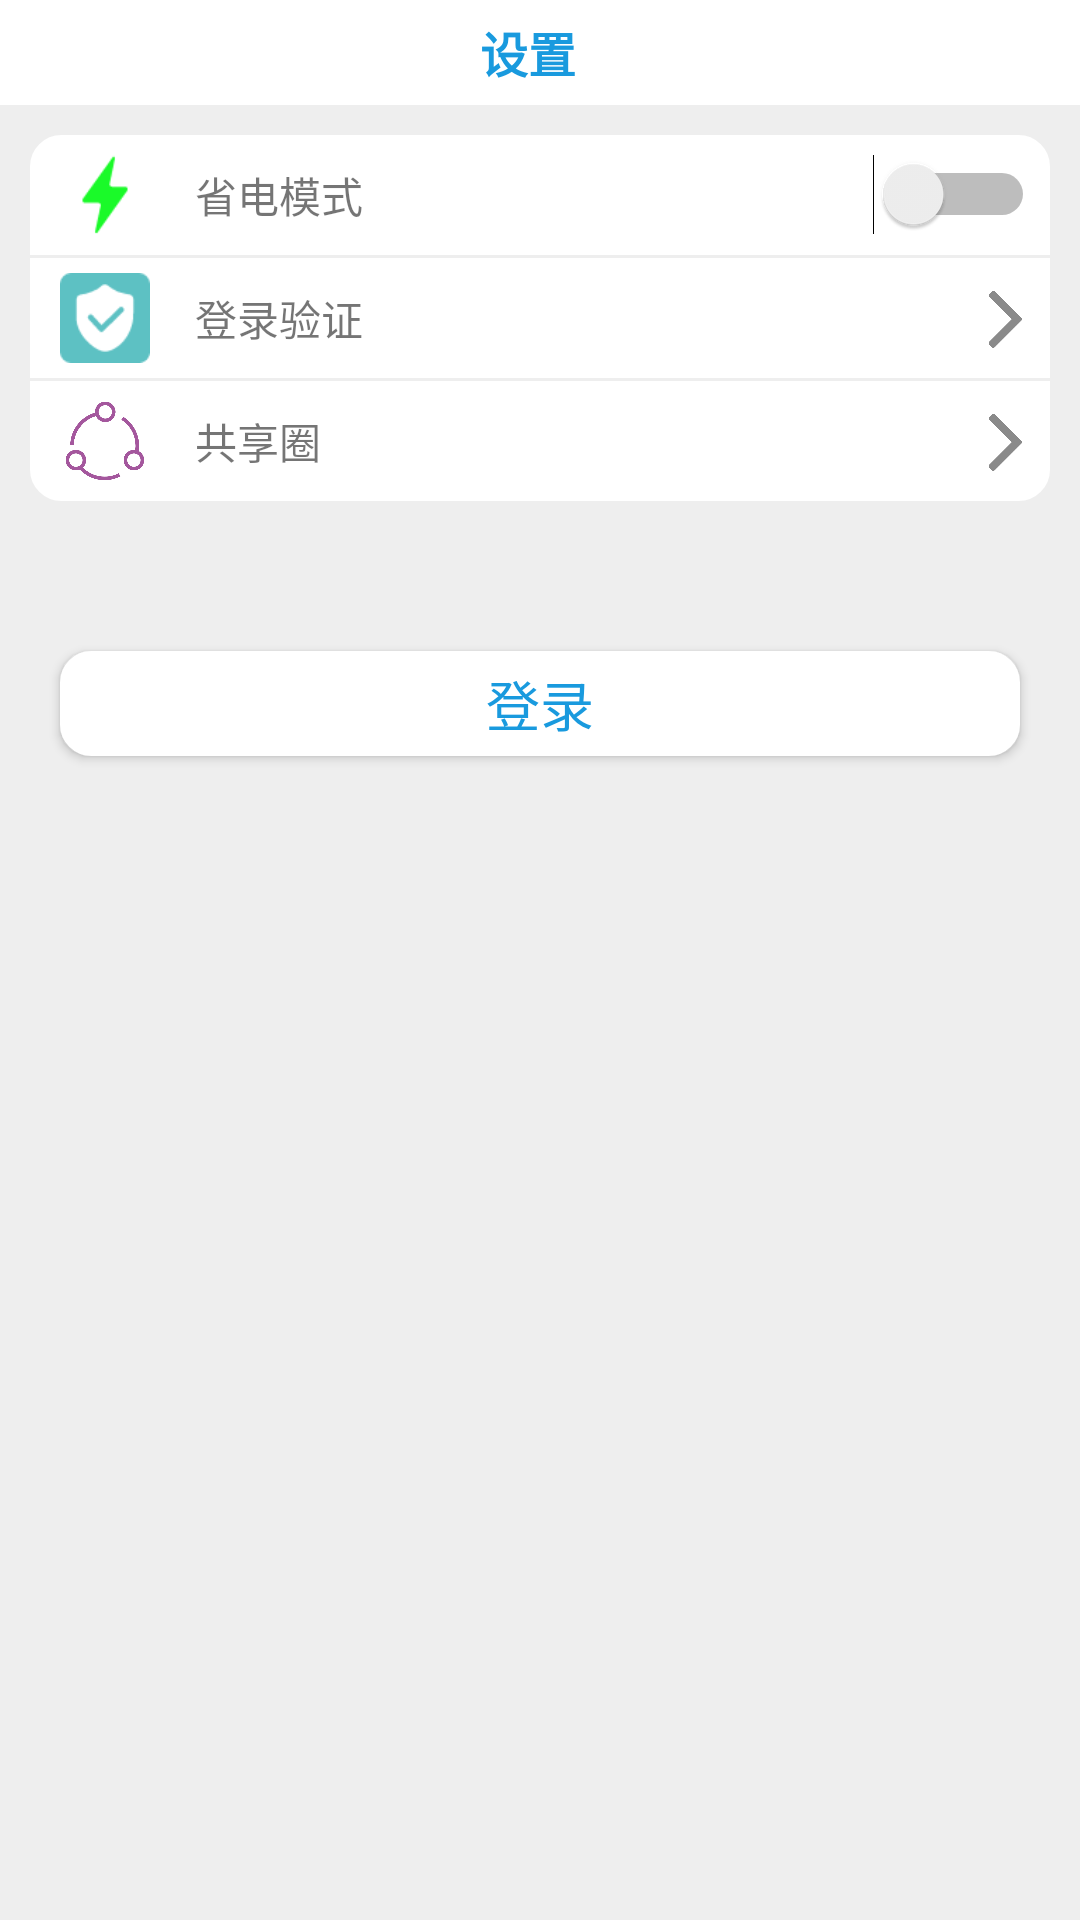

Screen size 1080px x 1920px. Icon name, then its box in pixels as (x1, y1, x2, y2):
arrow right: (989, 291, 1022, 348), (989, 414, 1022, 471)
login verify: (60, 273, 150, 363)
power: (82, 156, 128, 233)
share: (66, 402, 144, 480)
